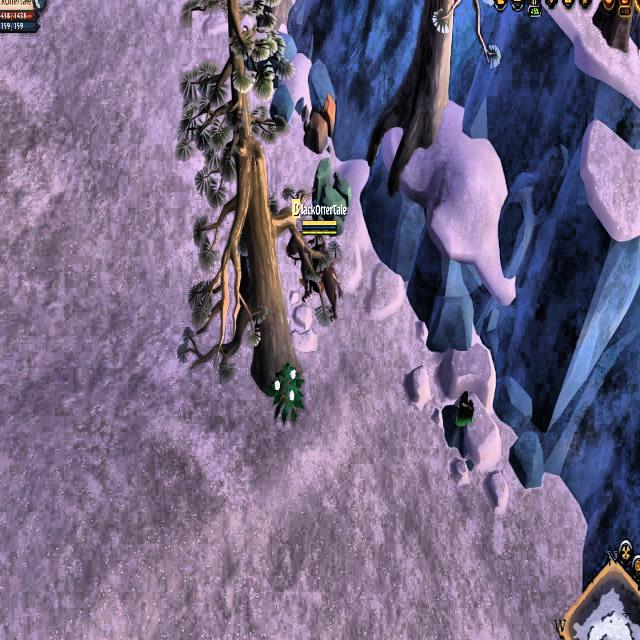limestone: (299, 86, 338, 158)
sandstone: (308, 154, 353, 238)
tinore: (440, 386, 480, 456)
